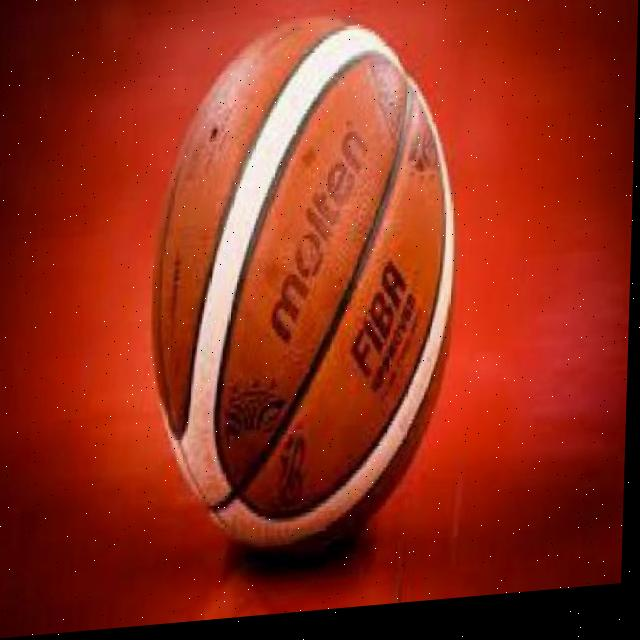Basketball: (146, 5, 462, 567)
